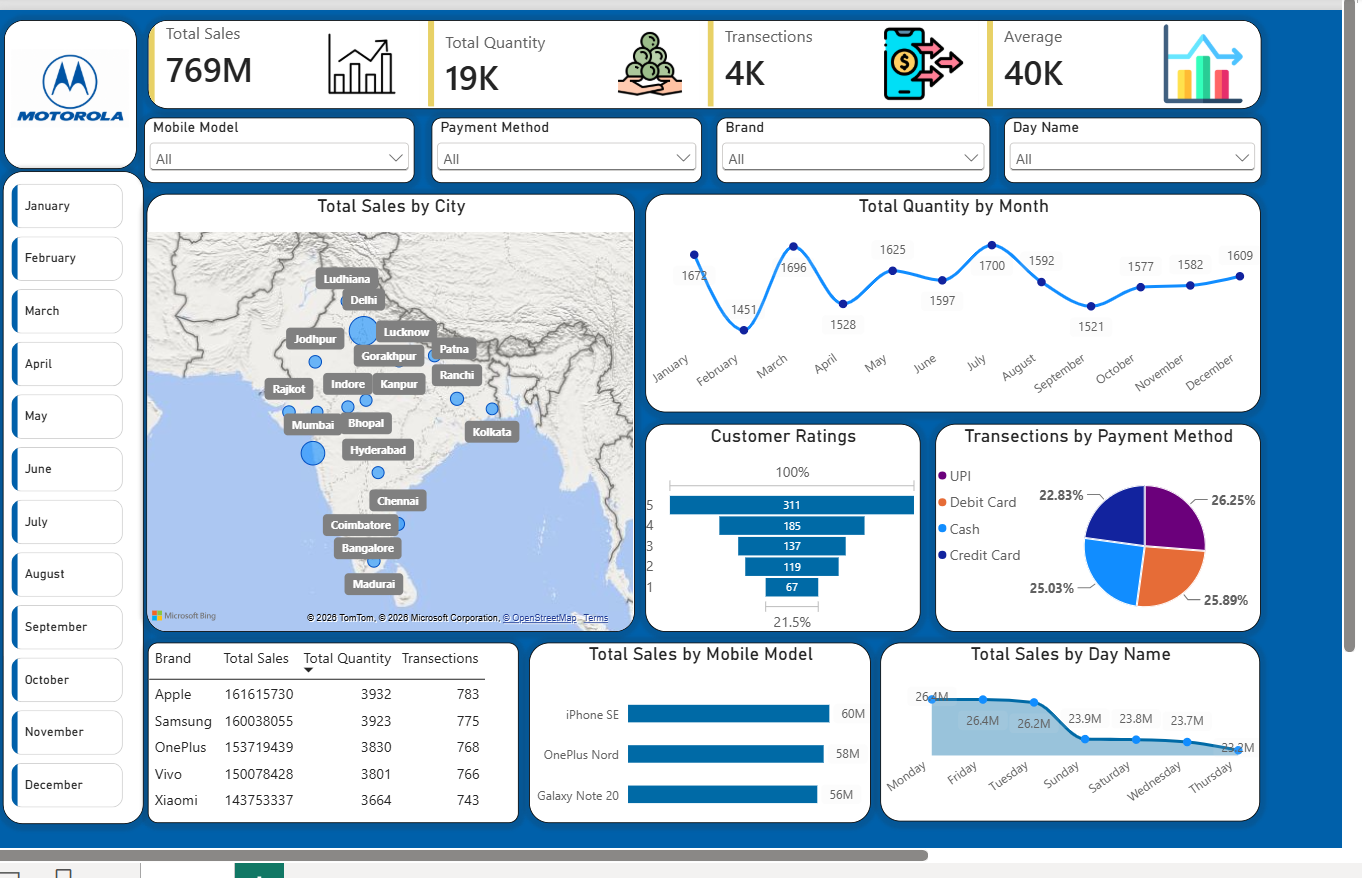

Layout of this report page (visuals, bound fields, positions):
{"tool":"powerbi","page":{"name":"Page 1","canvas":[1920,1080],"ordinal":0},"visuals":[{"type":"shape","box":[9.5,9.5,131.1,147.3],"z":0},{"type":"image","box":[17.6,9.5,116.2,135.1],"z":1000},{"type":"shape","box":[9.5,159.5,131.1,643.2],"z":2000},{"type":"advancedSlicerVisual","fields":{"Values":["Sales_Data.Date.Variation.Date Hierarchy.Month"]},"box":[17.6,171.6,110.8,618.9],"z":3000},{"type":"cardVisual","fields":{"Data":["Sales_Data.Total Sales","Sales_Data.Total Quantity","Sales_Data.Transections","Sales_Data.Average"]},"box":[151.4,9.5,1100,87.8],"z":4000},{"type":"map","fields":{"Category":["Sales_Data.City"],"Size":["Sales_Data.Total Sales"]},"box":[150,181.1,482.4,432.4],"z":5000},{"type":"lineChart","fields":{"Category":["Sales_Data.Date.Variation.Date Hierarchy.Month","Sales_Data.Date.Variation.Date Hierarchy.Day"],"Y":["Sales_Data.Total Quantity"]},"box":[643.2,181.1,608.1,216.2],"z":6000},{"type":"clusteredBarChart","fields":{"Category":["Sales_Data.Mobile Model"],"Y":["Sales_Data.Total Sales"]},"box":[528.4,624.3,337.8,178.4],"z":7000},{"type":"pieChart","fields":{"Category":["Sales_Data.Payment Method"],"Y":["Sales_Data.Transections"]},"box":[929.8,408.3,321.6,205.4],"z":8000},{"type":"funnel","title":"Customer Ratings","fields":{"Category":["Sales_Data.Customer Ratings"],"Y":["CountNonNull(Sales_Data.Customer Ratings)"]},"box":[642.9,408.3,271.6,205.4],"z":9000},{"type":"areaChart","fields":{"Category":["Sales_Data.Day Name"],"Y":["Sales_Data.Total Sales"]},"box":[875,625,375,176.8],"z":10000},{"type":"tableEx","fields":{"Values":["Sales_Data.Brand","Sales_Data.Total Sales","Sales_Data.Total Quantity","Sales_Data.Transections"]},"box":[151.4,624.3,366.7,178.2],"z":11000},{"type":"slicer","fields":{"Values":["Sales_Data.Mobile Model"]},"box":[148.6,106.8,267.6,64.9],"z":12000},{"type":"slicer","fields":{"Values":["Sales_Data.Day Name"]},"box":[997.3,106.8,254.1,64.9],"z":13000},{"type":"slicer","fields":{"Values":["Sales_Data.Brand"]},"box":[713.5,106.8,270.3,64.9],"z":14000},{"type":"slicer","fields":{"Values":["Sales_Data.Payment Method"]},"box":[432.4,106.8,267.6,64.9],"z":15000}]}

Visuals, with their boxes on the page's 1920x1080 design canvas (x1, y1, x2, y2). These are canvas units, not pixel positions in the 1362x878 screenshot, which may show the page scaled, cropped or inside an application window:
shape: bbox=(10, 10, 141, 157)
image: bbox=(18, 10, 134, 145)
shape: bbox=(10, 160, 141, 803)
advancedSlicerVisual - Sales_Data.Date.Variation.Date Hierarchy.Month: bbox=(18, 172, 128, 790)
cardVisual - Sales_Data.Total Sales x Sales_Data.Total Quantity: bbox=(151, 10, 1251, 97)
map - Sales_Data.City x Sales_Data.Total Sales: bbox=(150, 181, 632, 614)
lineChart - Sales_Data.Date.Variation.Date Hierarchy.Month x Sales_Data.Date.Variation.Date Hierarchy.Day: bbox=(643, 181, 1251, 397)
clusteredBarChart - Sales_Data.Mobile Model x Sales_Data.Total Sales: bbox=(528, 624, 866, 803)
pieChart - Sales_Data.Payment Method x Sales_Data.Transections: bbox=(930, 408, 1251, 614)
"Customer Ratings" funnel: bbox=(643, 408, 914, 614)
areaChart - Sales_Data.Day Name x Sales_Data.Total Sales: bbox=(875, 625, 1250, 802)
tableEx - Sales_Data.Brand x Sales_Data.Total Sales: bbox=(151, 624, 518, 802)
slicer - Sales_Data.Mobile Model: bbox=(149, 107, 416, 172)
slicer - Sales_Data.Day Name: bbox=(997, 107, 1251, 172)
slicer - Sales_Data.Brand: bbox=(714, 107, 984, 172)
slicer - Sales_Data.Payment Method: bbox=(432, 107, 700, 172)
